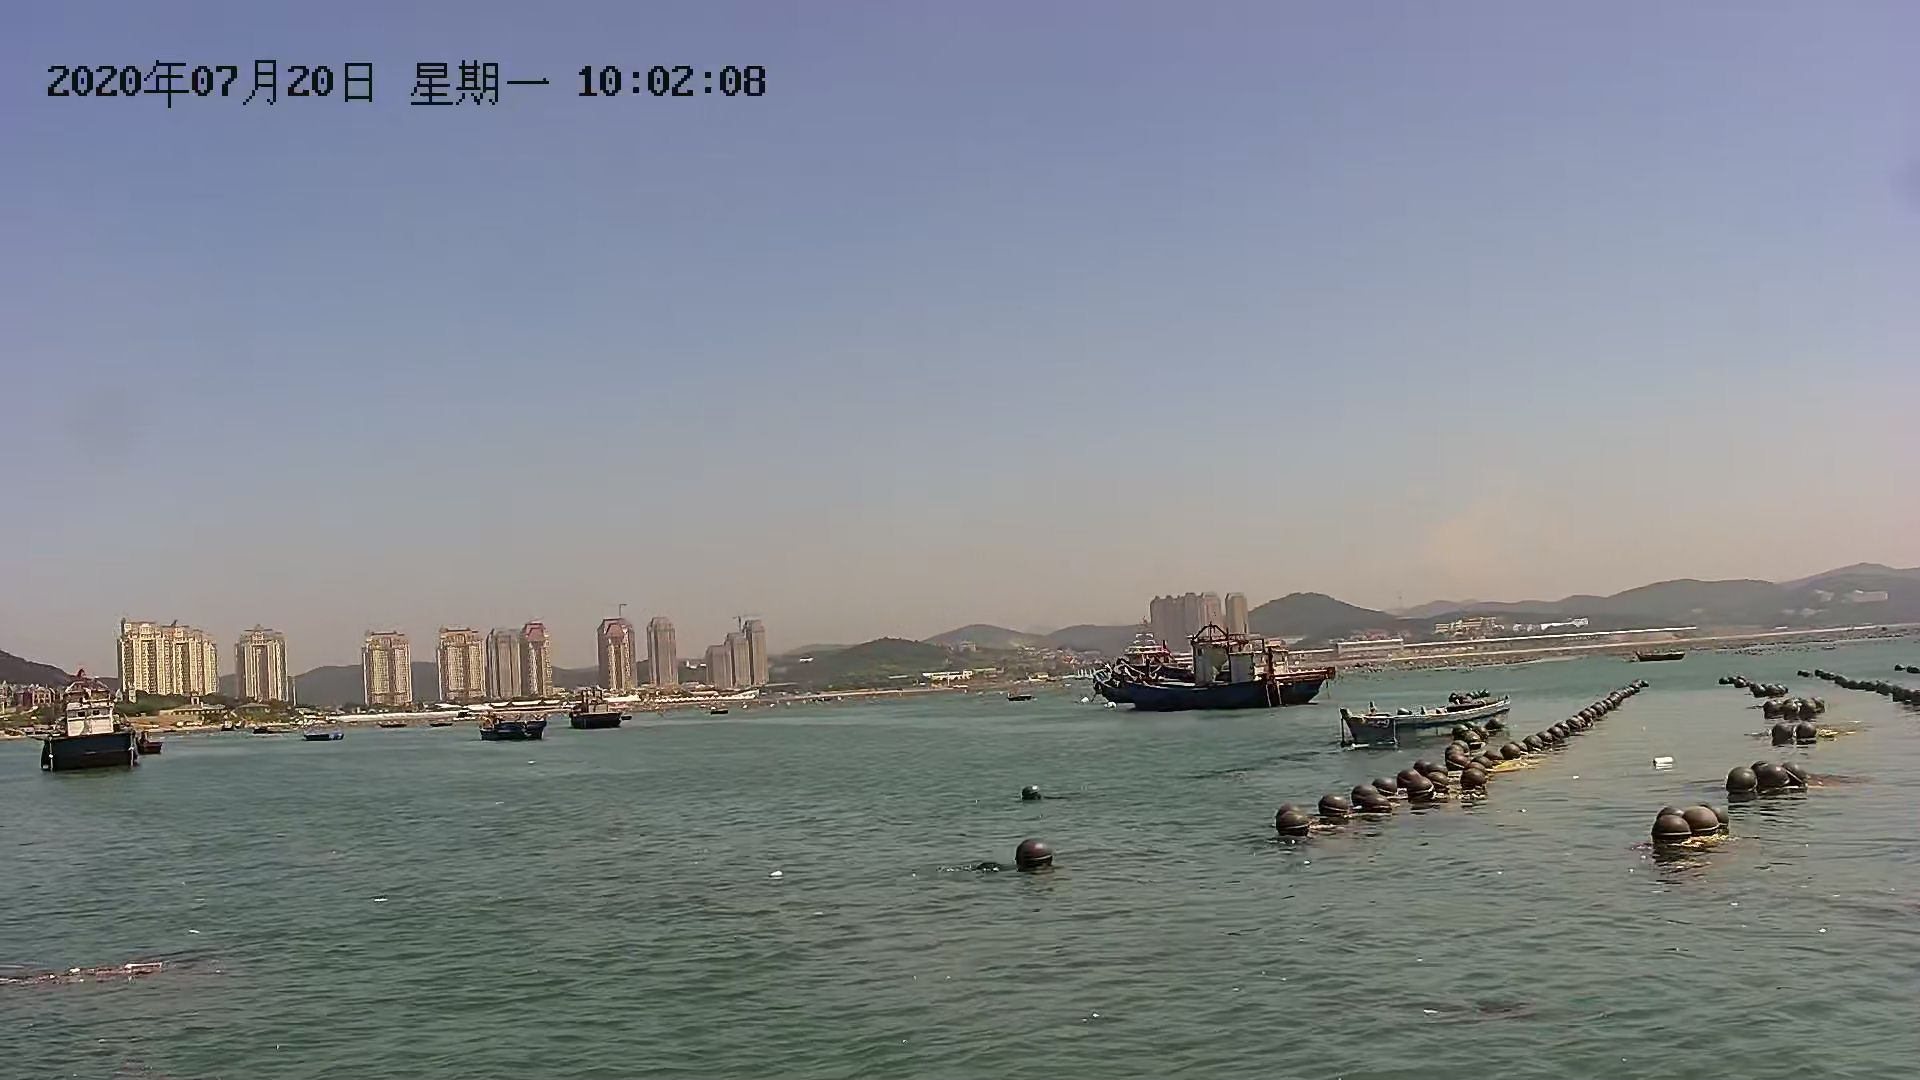ball: (1683, 799, 1729, 853), (1648, 804, 1693, 860), (1270, 812, 1340, 841), (1015, 836, 1063, 877), (1021, 778, 1054, 807)
boat: (1329, 699, 1544, 746), (477, 702, 553, 752), (276, 725, 364, 754), (572, 698, 636, 735)
ship: (1117, 633, 1325, 717), (34, 684, 140, 777)
